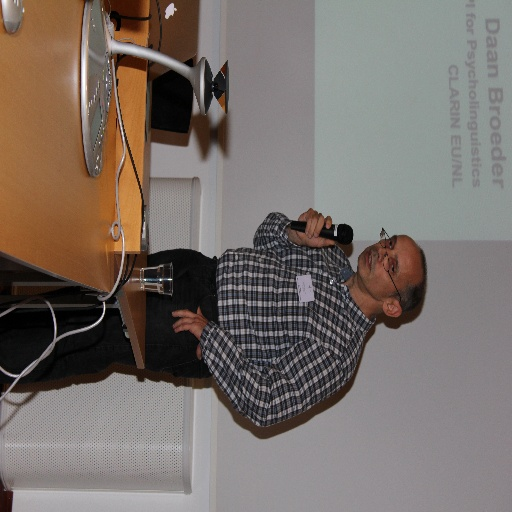hand: (301, 207, 346, 254), (172, 306, 208, 361)
